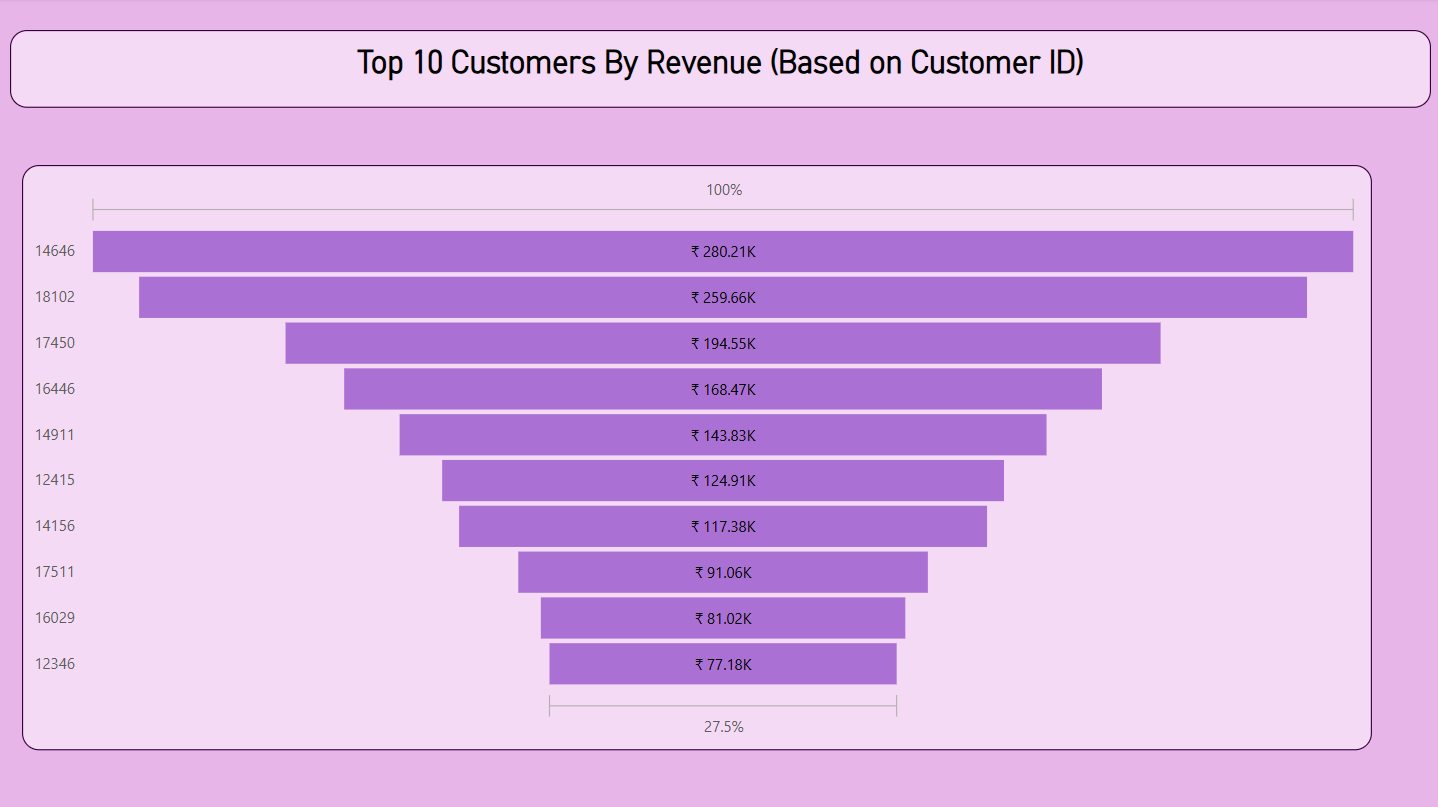

This screenshot's page, from the dashboard's own definition file:
{"tool":"powerbi","page":{"name":"Task 3","canvas":[1280,720],"ordinal":2},"visuals":[{"type":"textbox","box":[10.7,28.2,1259.6,69.1],"z":0},{"type":"funnel","title":"Revenue (Thousand) by Country","fields":{"Y":["Sum(Online Retail.Revenue)"],"Category":["Online Retail.CustomerID"]},"box":[21.4,147.8,1197.3,519.4],"z":1000}]}

Visuals, with their boxes in screenshot pixels (x1, y1, x2, y2), scaled from the page's 1280x720 canvas onto the 1438x807 screenshot:
textbox: bbox=(12, 32, 1427, 109)
"Revenue (Thousand) by Country" funnel: bbox=(24, 166, 1369, 748)
